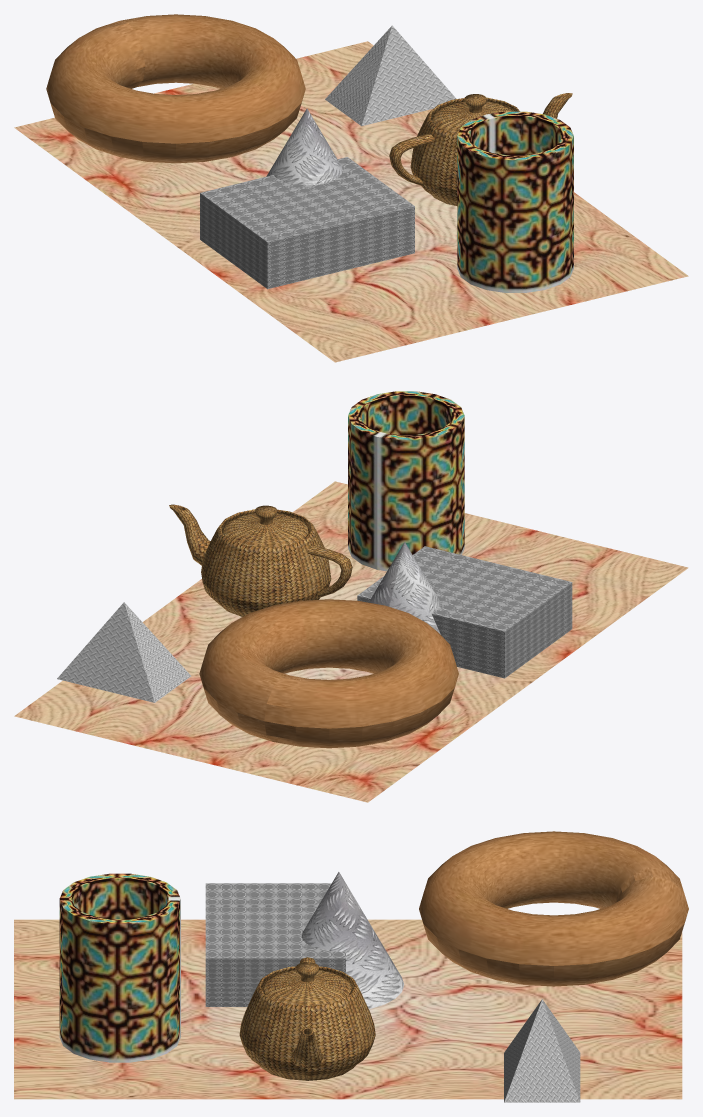
File: sample_scene.dae
3 renders of one model, top to bottom at view 1: azimuth 30°, elevation 25°; view 2: azimuth 150°, elevation 25°; view 3: azimuth 270°, elevation 25°, orthographic. The views are drawn at different scales.
Parts seen in each view (by area): view 1: Plane001, Torus001, Tube001, Box001, Pyramid001, Teapot001, Cone001; view 2: Plane001, Torus001, Tube001, Box001, Teapot001, Pyramid001, Cone001; view 3: Plane001, Torus001, Tube001, Teapot001, Box001, Cone001, Pyramid001.
Part boxes in pixels (x1,y1,x2,y2): Plane001: [14, 41, 688, 362]; Torus001: [46, 14, 305, 163]; Tube001: [457, 111, 573, 292]; Box001: [200, 157, 414, 289]; Pyramid001: [325, 25, 456, 126]; Teapot001: [389, 93, 572, 205]; Cone001: [266, 108, 342, 185]; Plane001: [14, 481, 688, 802]; Torus001: [199, 599, 458, 748]; Tube001: [348, 391, 464, 571]; Box001: [357, 546, 572, 678]; Teapot001: [169, 504, 352, 616]; Pyramid001: [57, 602, 191, 702]; Cone001: [368, 542, 440, 634]; Plane001: [14, 919, 682, 1099]; Torus001: [419, 831, 688, 986]; Tube001: [59, 873, 180, 1062]; Teapot001: [239, 957, 375, 1080]; Box001: [205, 883, 345, 1006]; Cone001: [301, 872, 404, 1008]; Pyramid001: [504, 999, 580, 1102].
Size of the model in its own units: 233 by 335 by 75.8.
